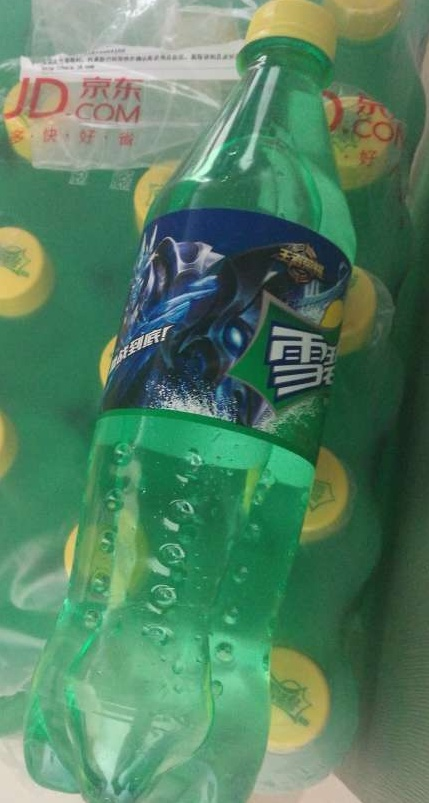雪碧: (45, 0, 381, 786)
